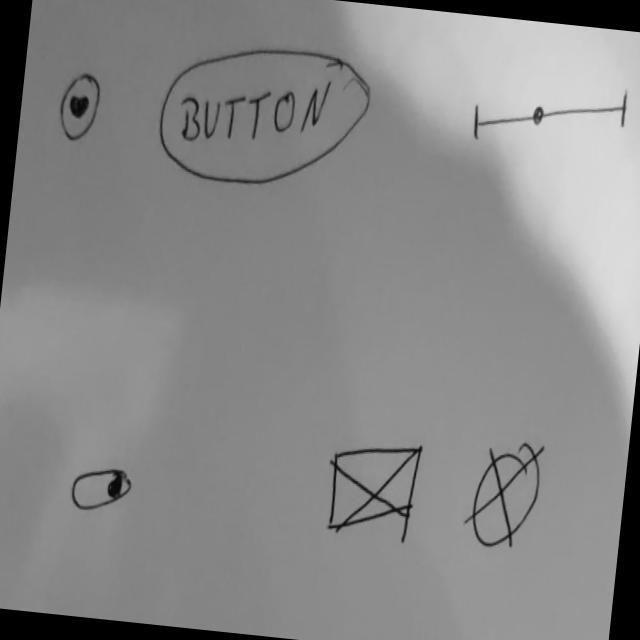button: (154, 33, 379, 201)
icon-button: (55, 67, 107, 148)
image: (325, 433, 427, 544), (461, 437, 550, 556)
slider: (469, 68, 633, 161)
toggle: (67, 462, 136, 520)
